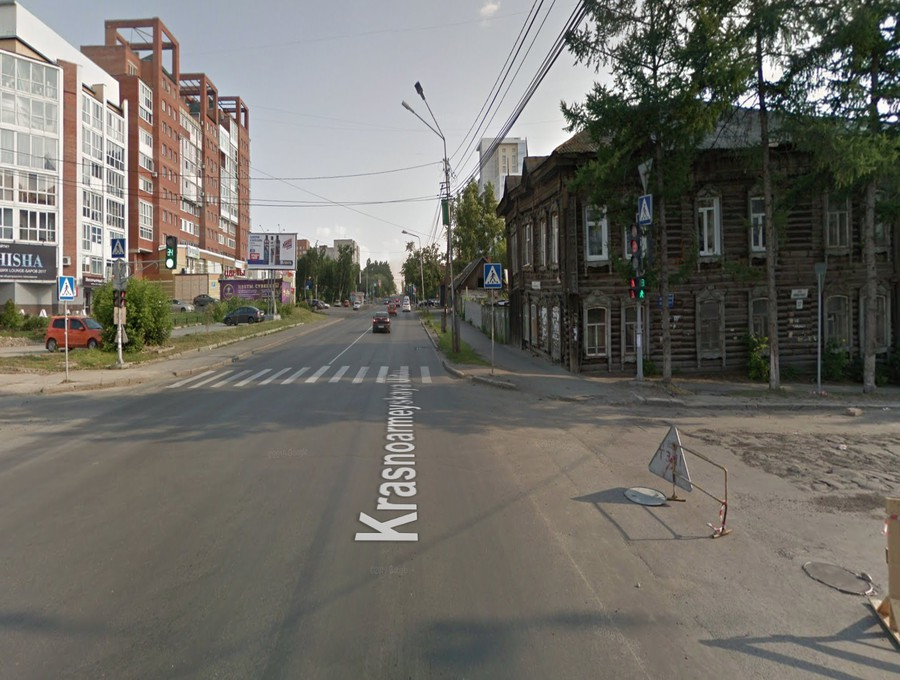Traffic Light-red: (624, 276, 639, 303), (119, 287, 129, 313)
